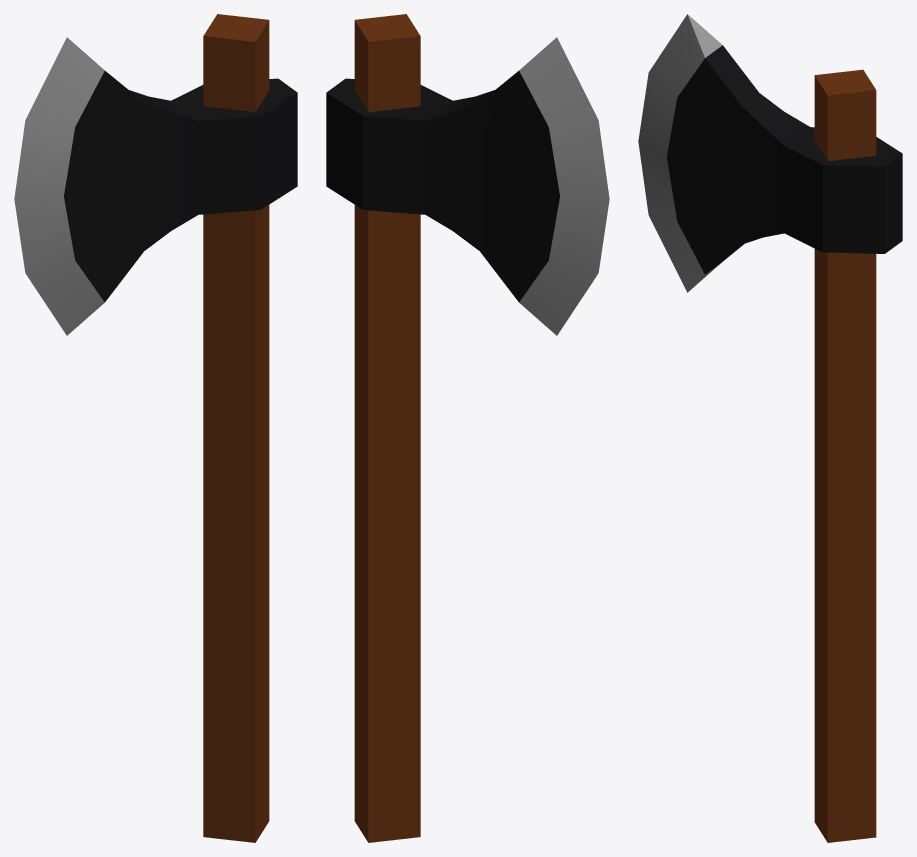
Rendered from item.axe.obj.
The picture shows the model from 3 angles, left to right: view 1: azimuth 30°, elevation 25°; view 2: azimuth 150°, elevation 25°; view 3: azimuth 330°, elevation 25°; orthographic projection. The views are drawn at different scales.
Parts seen in each view (by area): view 1: axe_Cube.011; view 2: axe_Cube.011; view 3: axe_Cube.011.
Boxes of the visible parts, box(x1,y1,x2,y2) form: axe_Cube.011: box(14, 14, 297, 842); axe_Cube.011: box(326, 14, 609, 842); axe_Cube.011: box(638, 14, 902, 842).
Size of the model in its own units: 0.3666 by 1.07 by 0.1134.
